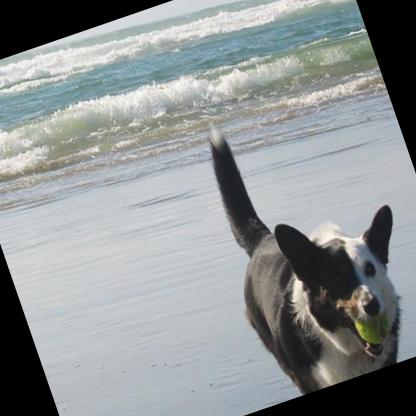Cardigan: (178, 74, 416, 403)
